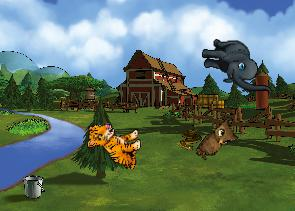elephant: (201, 38, 271, 95)
owl: (193, 115, 243, 169)
tiger: (86, 122, 142, 169)
